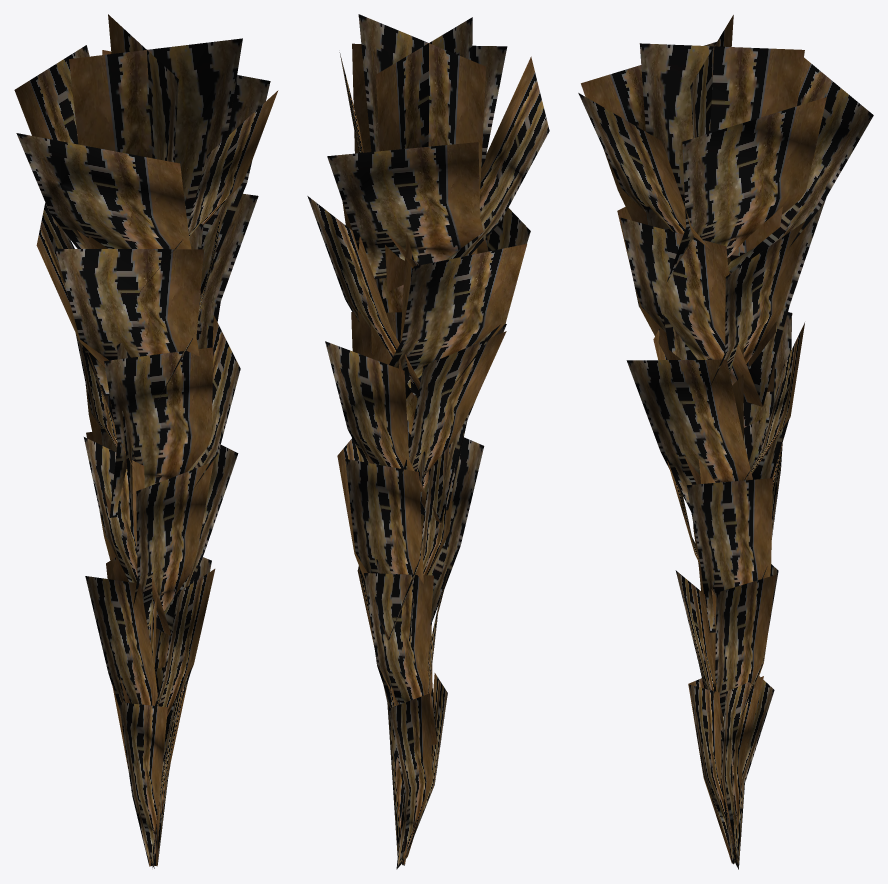
The model's file is SeaWeed04-transformed.glb.
3 views of the same model, side by side, from view 1: azimuth 30°, elevation 25°; view 2: azimuth 150°, elevation 25°; view 3: azimuth 270°, elevation 25° (orthographic). The views are drawn at different scales.
Visible parts, largest first — view 1: SeaWeed04; view 2: SeaWeed04; view 3: SeaWeed04.
Boxes of the visible parts, x1,y1,x2,y2 form: SeaWeed04: (14,14,278,868); SeaWeed04: (307,14,549,869); SeaWeed04: (578,15,873,869).
Bounding box in the file's own units: 0.0803 × 0.2622 × 0.0864.
Materials: 1 (1 with a texture image).
